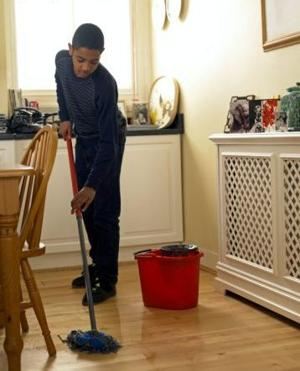person: (54, 23, 129, 305)
